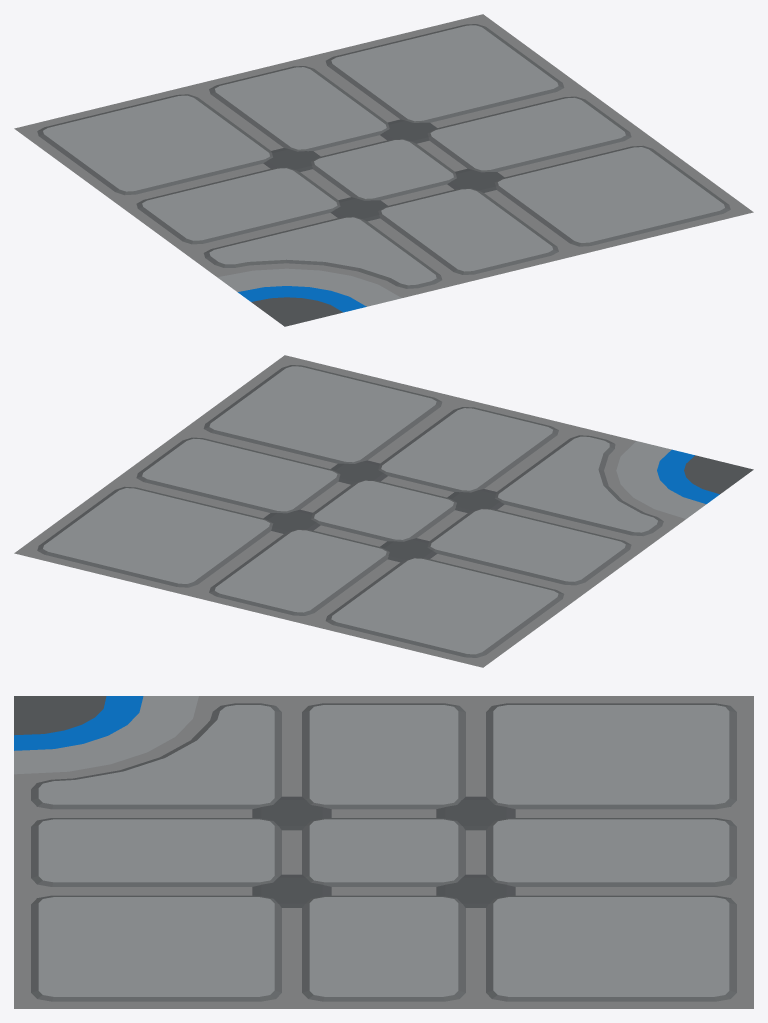
Rendered from Floor_type_B_022.glb.
The picture shows the model from 3 angles, top to bottom: view 1: azimuth 30°, elevation 25°; view 2: azimuth 150°, elevation 25°; view 3: azimuth 270°, elevation 25°; orthographic projection. The views are drawn at different scales.
Parts seen in each view (by area): view 1: Floor_type_B_022; view 2: Floor_type_B_022; view 3: Floor_type_B_022.
Boxes of the visible parts, bbox=[...] form: Floor_type_B_022: bbox=[14, 14, 753, 326]; Floor_type_B_022: bbox=[14, 355, 753, 667]; Floor_type_B_022: bbox=[14, 696, 753, 1008].
Bounding box in the file's own units: 4 × 0.0134 × 4.
2 materials, 2 textured.
